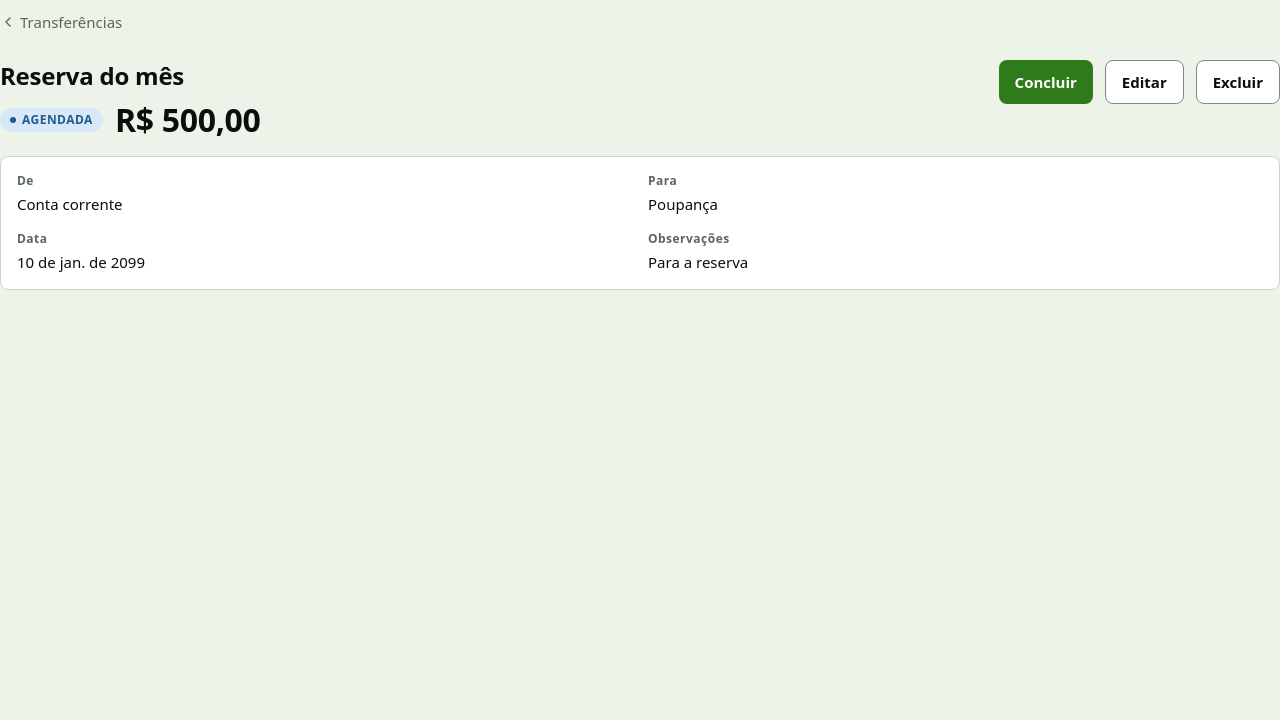
Test: TransferDetailPage (spec 0018) › deletes a scheduled transfer after confirming
The width and height of the screenshot is (1280, 720).
Click the button "Excluir" at [1238, 82], box 1196,60 -> 1279,104
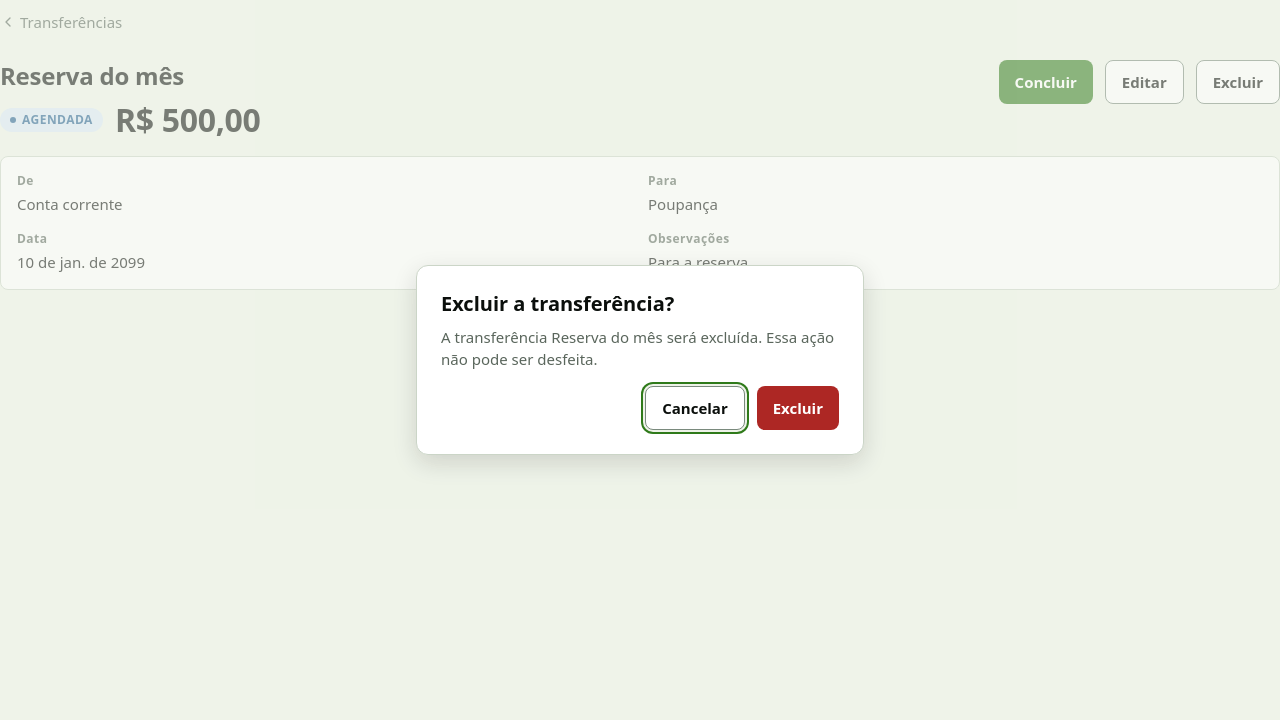
Click the button "Excluir" at [798, 408], box 757,386 -> 839,430
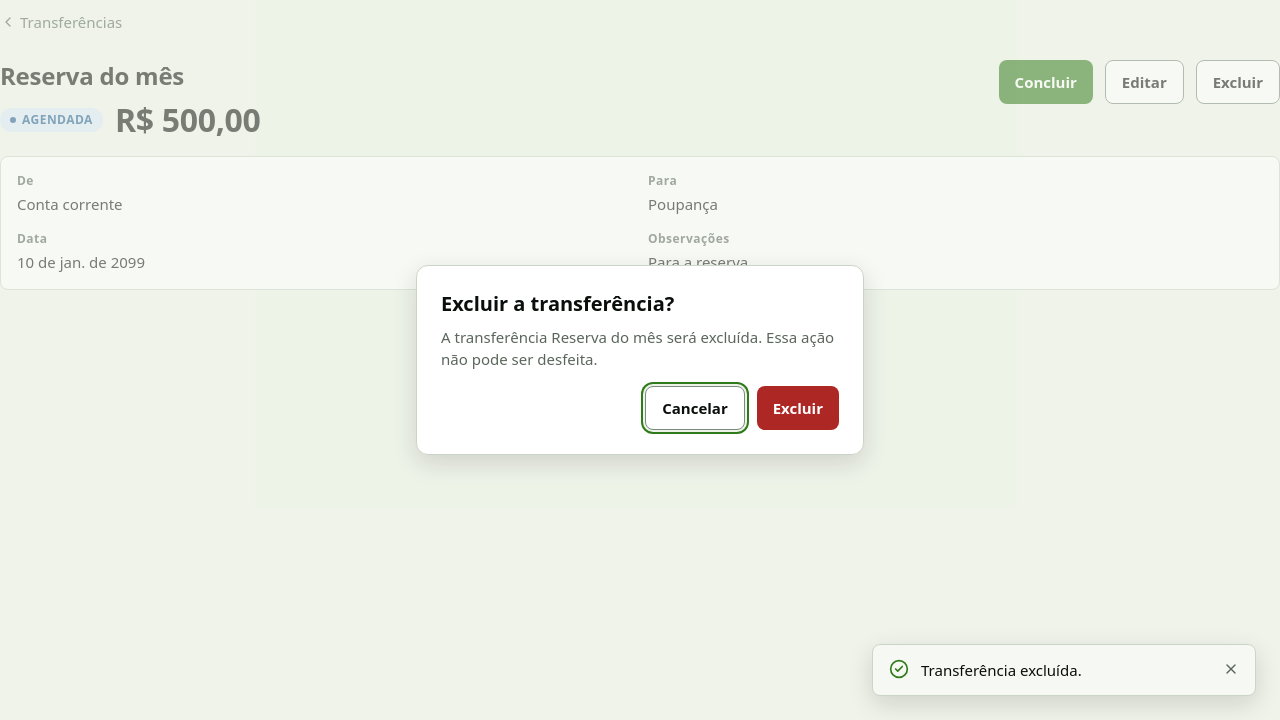
Check: the text "Transferência excluída." is shown, box 921,660 -> 1082,680
